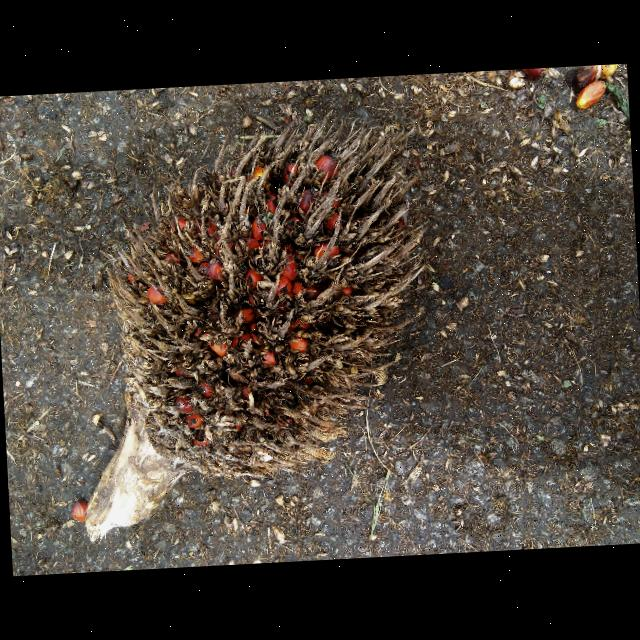Overripe: (82, 123, 431, 543)
